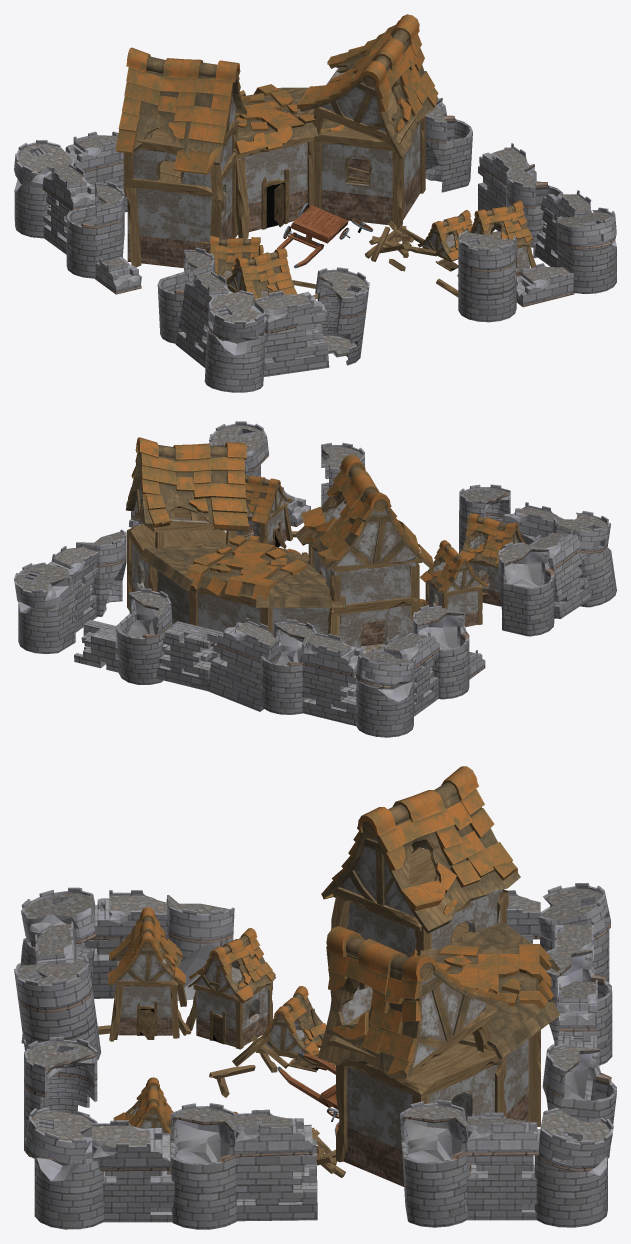
File: sb_obj_outdoor010_Landmark_RuinsCity.fbx
The picture shows the model from 3 angles, top to bottom: view 1: azimuth 30°, elevation 25°; view 2: azimuth 150°, elevation 25°; view 3: azimuth 270°, elevation 25°; orthographic projection. The views are drawn at different scales.
Parts seen in each view (by area): view 1: sb_obj_outdoor010_Landmark01_RuinsCity; view 2: sb_obj_outdoor010_Landmark01_RuinsCity; view 3: sb_obj_outdoor010_Landmark01_RuinsCity.
Part boxes in pixels (x1,y1,x2,y2): sb_obj_outdoor010_Landmark01_RuinsCity: [14, 14, 616, 392]; sb_obj_outdoor010_Landmark01_RuinsCity: [14, 421, 616, 737]; sb_obj_outdoor010_Landmark01_RuinsCity: [14, 766, 616, 1229].
Bounding box in the file's own units: 2.06 × 1.01 × 2.03.
